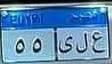5: (13, 37, 28, 56), (30, 37, 45, 55)
ain: (91, 30, 106, 55)
laam: (76, 31, 89, 56)
yaa: (59, 35, 75, 55)
